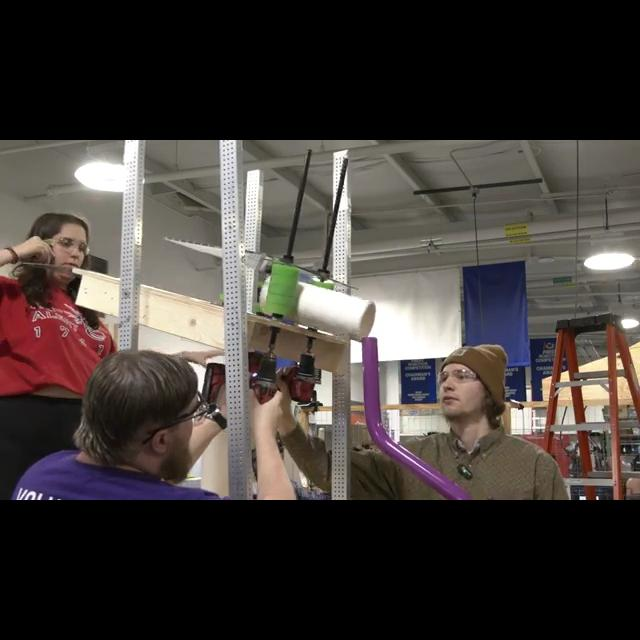CORAL: (256, 262, 376, 342)
